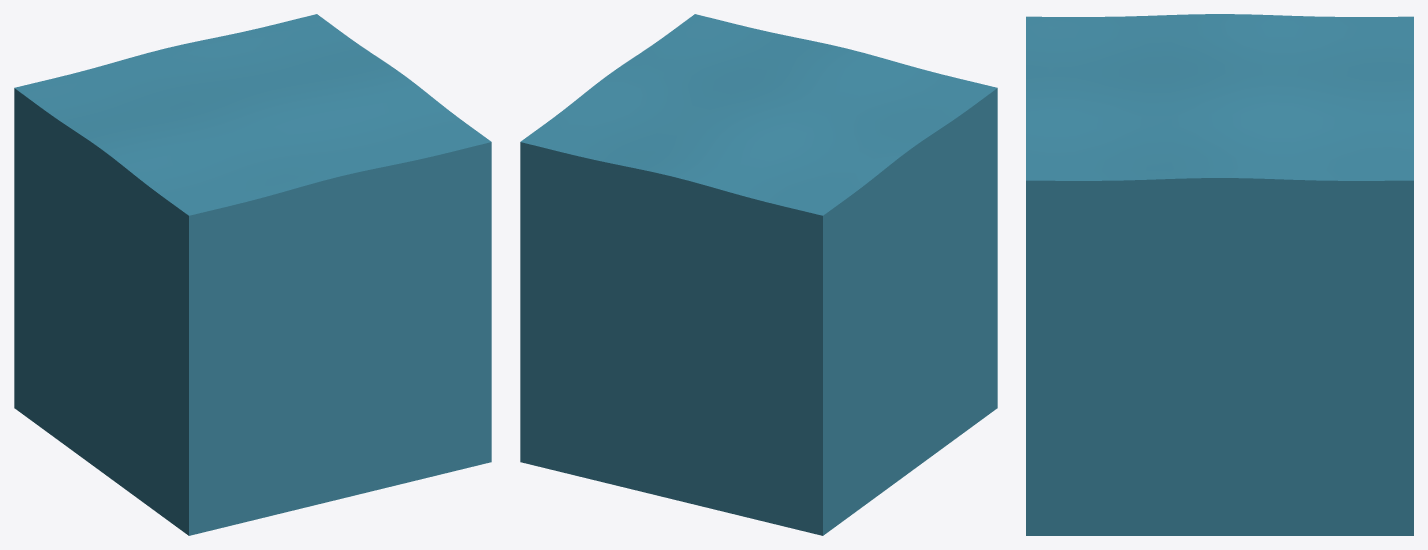
The model's file is slpool_wave05.glb.
3 renders of one model, left to right at view 1: azimuth 30°, elevation 25°; view 2: azimuth 150°, elevation 25°; view 3: azimuth 270°, elevation 25°, orthographic. The views are drawn at different scales.
Visible parts, largest first — view 1: poolWater; view 2: poolWater; view 3: poolWater.
Boxes of the visible parts, x1=… form: poolWater: x1=14, y1=14, x2=491, y2=535; poolWater: x1=520, y1=14, x2=997, y2=535; poolWater: x1=1026, y1=14, x2=1413, y2=535.
Bounding box in the file's own units: 2 × 2.05 × 2.
